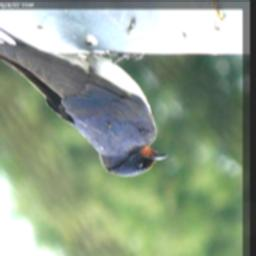Swallow: (0, 2, 169, 177)
